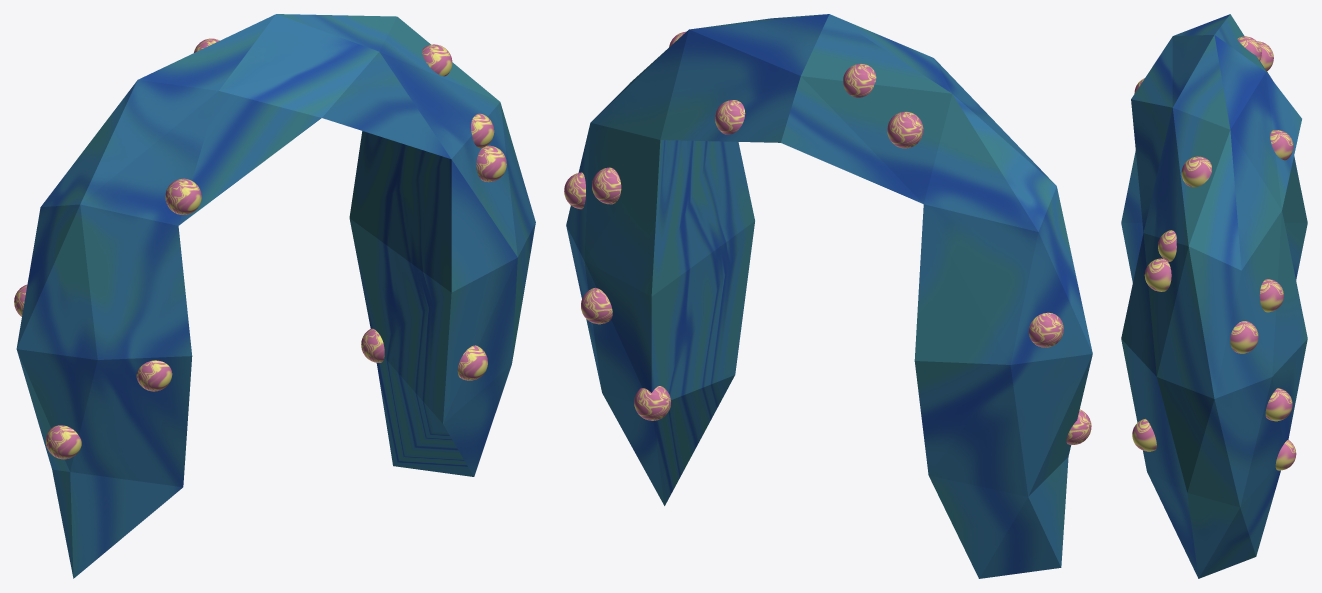
Rendered from arch.gltf.
3 renders of one model, left to right at view 1: azimuth 30°, elevation 25°; view 2: azimuth 150°, elevation 25°; view 3: azimuth 270°, elevation 25°, orthographic. The views are drawn at different scales.
Visible parts, largest first — view 1: Icosphere, Sphere.007; view 2: Icosphere, Sphere.007; view 3: Icosphere, Sphere.007.
Boxes of the visible parts, box(x1,y1,x2,y2) form: Icosphere: box(16, 14, 535, 578); Sphere.007: box(14, 38, 506, 459); Icosphere: box(566, 14, 1092, 578); Sphere.007: box(564, 31, 1091, 444); Icosphere: box(1121, 14, 1307, 578); Sphere.007: box(1132, 36, 1296, 470).
Size of the model in its own units: 0.6096 by 0.5641 by 0.2076.
2 materials, 2 textured.
